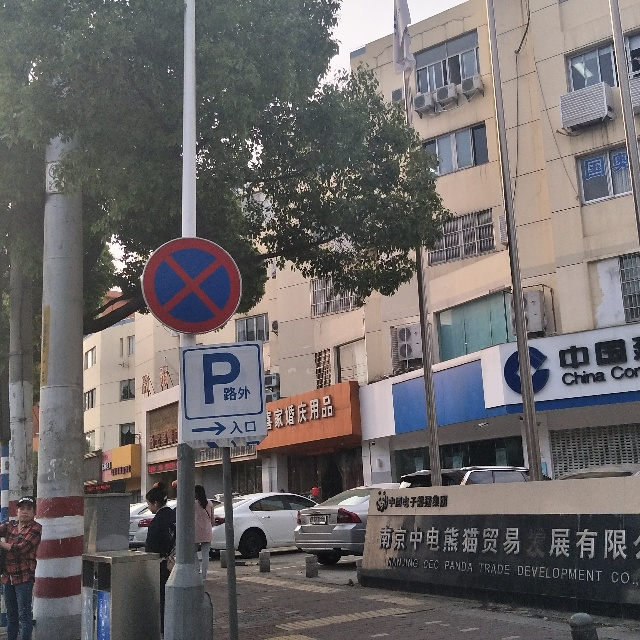stop: (148, 235, 234, 322)
